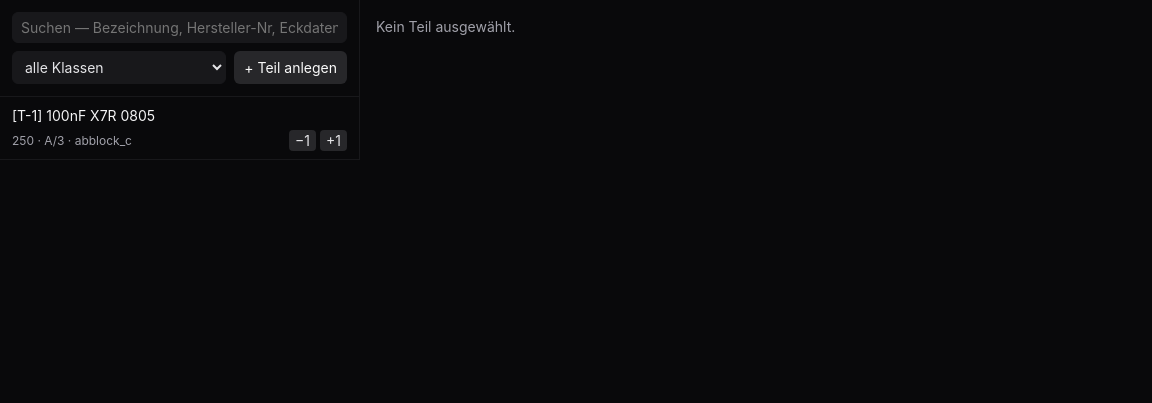
Test: BestandPanel › rendert javascript-URLs nicht als Link
Click the text "[T-1] 100nF X7R 0805": (84, 116) [12,107,155,124]
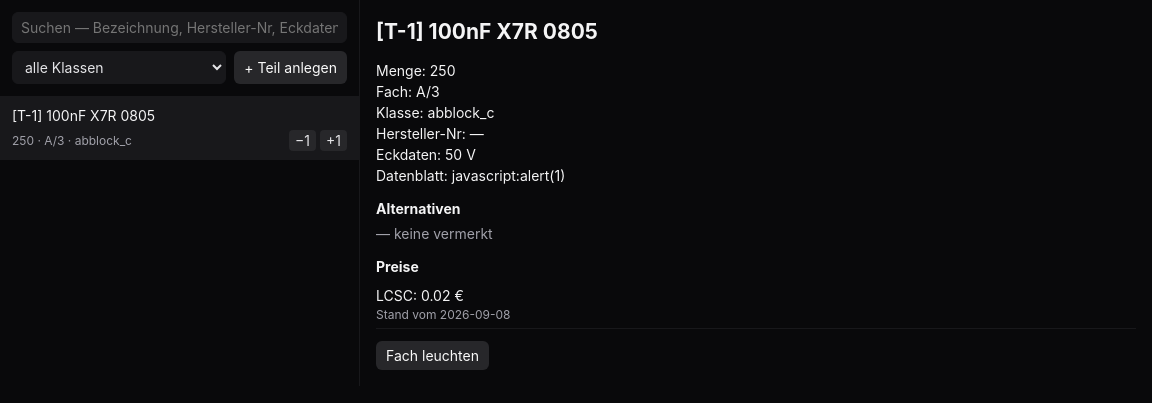
Check: the text "javascript:alert(1)" is not shown
Check: the text "javascript:alert(1)" is shown, box [452,166,565,184]
